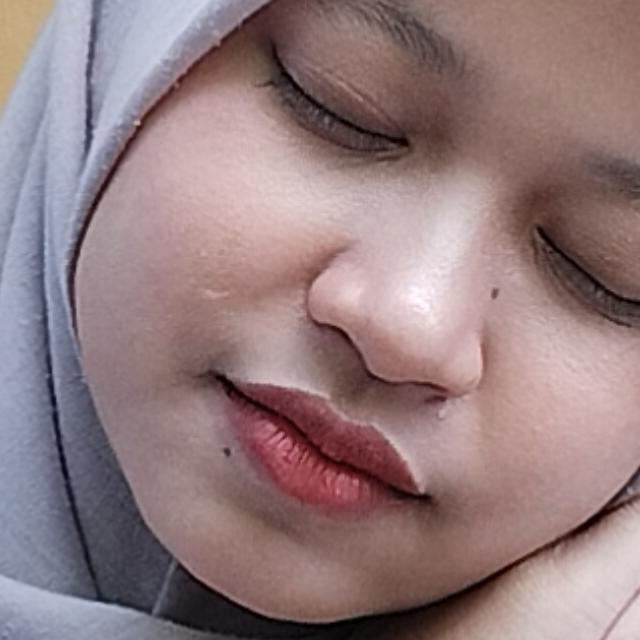tidur: (66, 178, 640, 640)
